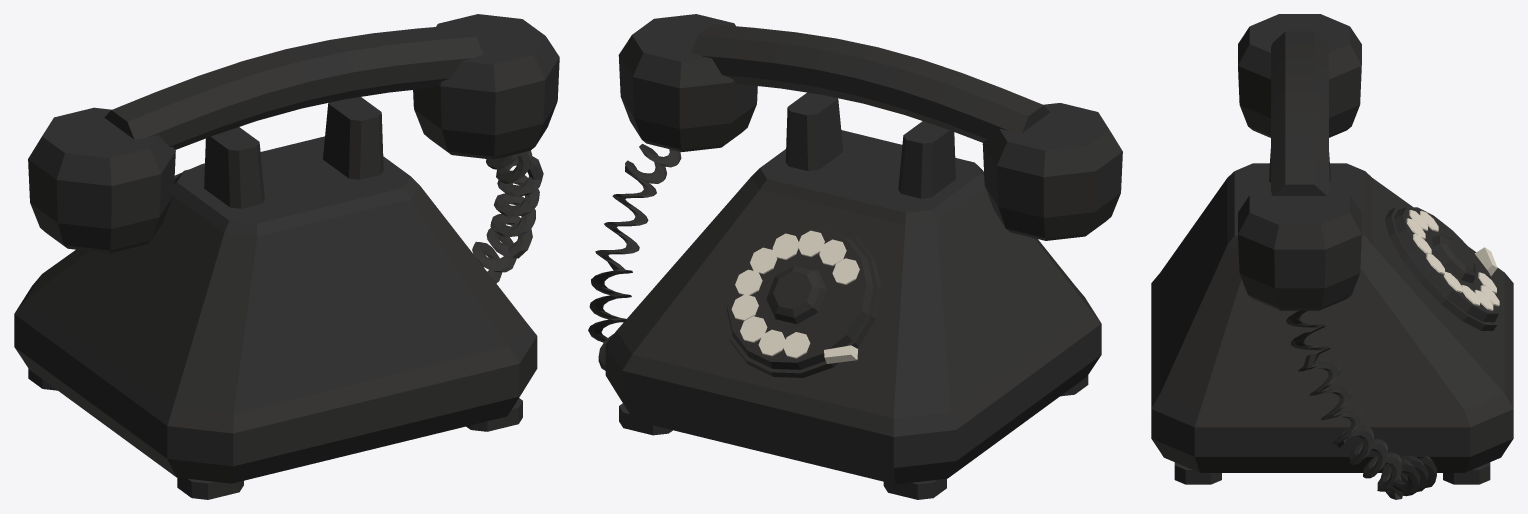
Rendered from phone-v02.glb.
The picture shows the model from 3 angles, left to right: view 1: azimuth 30°, elevation 25°; view 2: azimuth 150°, elevation 25°; view 3: azimuth 270°, elevation 25°; orthographic projection. The views are drawn at different scales.
Visible parts, largest first — view 1: PHONE | body, PHONE | handset bar, PHONE | cup ear, PHONE | cup mouth, PHONE | cord, PHONE | post, PHONE | post.001, PHONE | foot.003, PHONE | foot.001; view 2: PHONE | body, PHONE | handset bar, PHONE | cup ear, PHONE | cup mouth, PHONE | dial wheel, PHONE | cord, PHONE | post, PHONE | post.001, PHONE | dial hub, PHONE | dial plate, PHONE | foot.002, PHONE | foot; view 3: PHONE | body, PHONE | cup mouth, PHONE | handset bar, PHONE | cup ear, PHONE | cord, PHONE | dial wheel, PHONE | dial plate, PHONE | dial hub, PHONE | foot, PHONE | foot.001.
Boxes of the visible parts, x1,y1,x2,y2 form: PHONE | body: (14, 136, 537, 483); PHONE | handset bar: (104, 25, 483, 149); PHONE | cup ear: (28, 107, 175, 253); PHONE | cup mouth: (413, 14, 559, 159); PHONE | cord: (472, 150, 543, 283); PHONE | post: (323, 97, 383, 179); PHONE | post.001: (204, 127, 264, 208); PHONE | foot.003: (177, 477, 243, 499); PHONE | foot.001: (466, 398, 522, 431); PHONE | body: (605, 130, 1101, 484); PHONE | handset bar: (691, 24, 1050, 142); PHONE | cup ear: (982, 103, 1122, 240); PHONE | cup mouth: (618, 14, 757, 151); PHONE | dial wheel: (727, 227, 873, 369); PHONE | cord: (588, 144, 681, 370); PHONE | post: (785, 92, 843, 171); PHONE | post.001: (898, 121, 955, 198); PHONE | dial hub: (766, 265, 826, 324); PHONE | dial plate: (723, 223, 881, 377); PHONE | foot.002: (883, 478, 946, 499); PHONE | foot: (619, 403, 672, 435); PHONE | body: (1151, 163, 1513, 472); PHONE | cup mouth: (1238, 186, 1361, 310); PHONE | handset bar: (1271, 31, 1328, 195); PHONE | cup ear: (1238, 14, 1361, 137); PHONE | cord: (1286, 310, 1437, 499); PHONE | dial wheel: (1394, 207, 1502, 322); PHONE | dial plate: (1385, 207, 1501, 330); PHONE | dial hub: (1432, 235, 1475, 283); PHONE | foot: (1443, 462, 1490, 484); PHONE | foot.001: (1174, 462, 1221, 484).
Bounding box in the file's own units: 0.2949 × 0.195 × 0.2.
